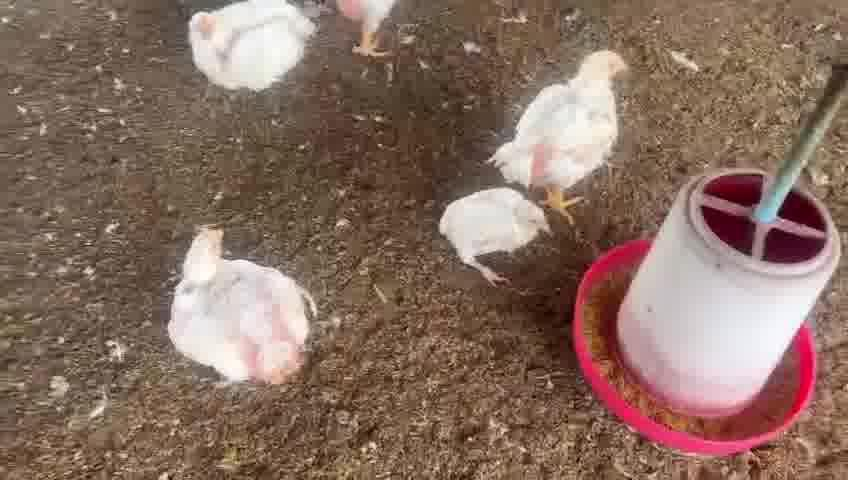AbNormal: (435, 177, 551, 292)
Normal: (171, 213, 318, 384), (508, 46, 642, 210), (179, 0, 319, 99)
